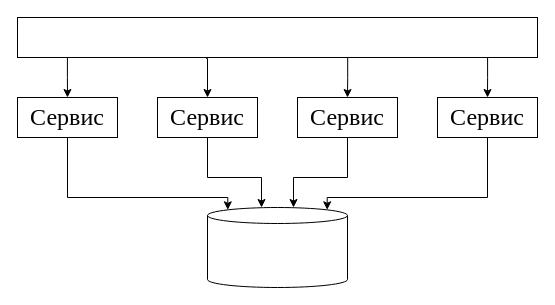
The diagram is 555 pixels wide and 305 high, and some of its shapes have lost their labels. The box of each missing label's shape, as (x1, y1, x2, y2) in pixels:
База данных: (206, 206, 348, 288)
Интерфейс пользователя: (16, 16, 538, 58)
